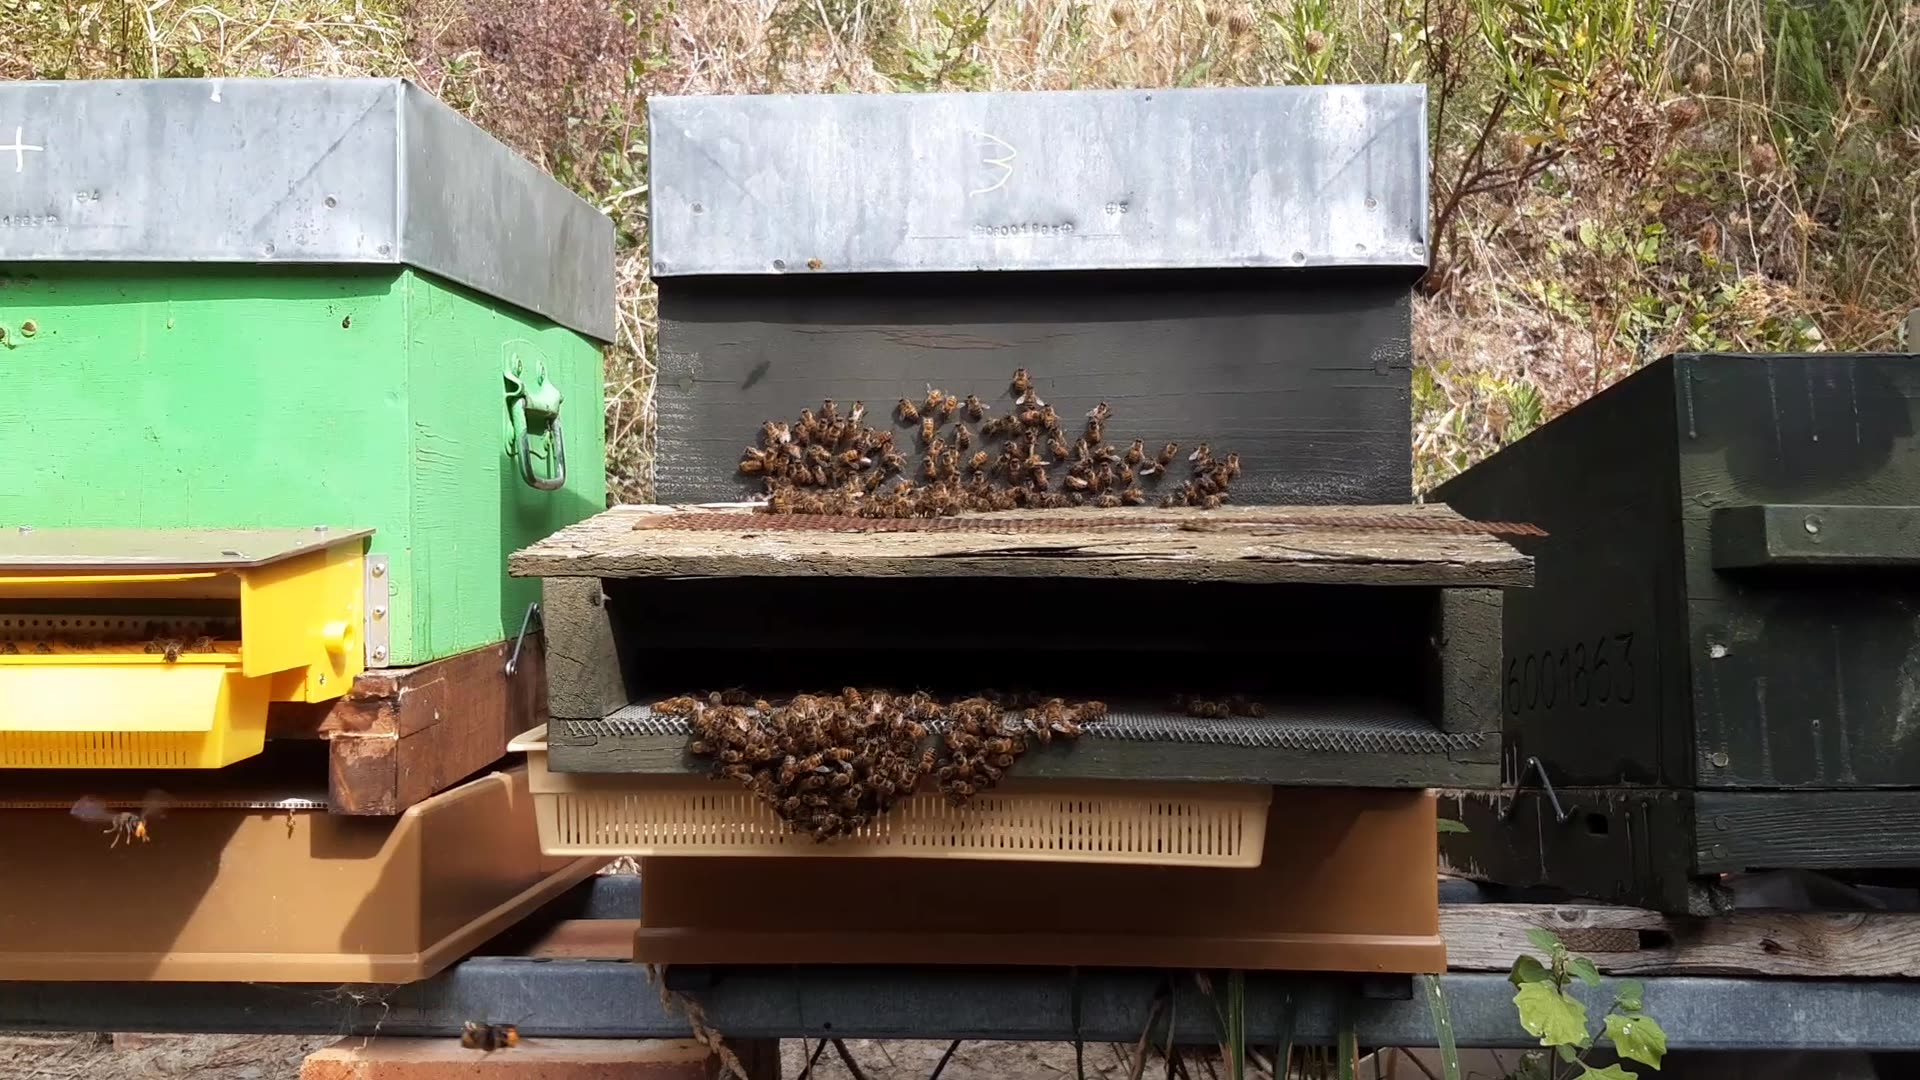bee: (761, 761, 837, 844), (926, 752, 1000, 825), (919, 454, 994, 526), (1022, 688, 1127, 738), (851, 444, 920, 516), (793, 401, 880, 458), (1150, 444, 1238, 500), (663, 680, 775, 724), (818, 671, 919, 709), (1031, 458, 1110, 506), (940, 386, 996, 442), (1039, 410, 1089, 463), (968, 386, 1021, 427)
hornet: (452, 1004, 516, 1060)
